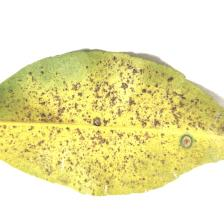canker: (27, 76, 154, 174)
